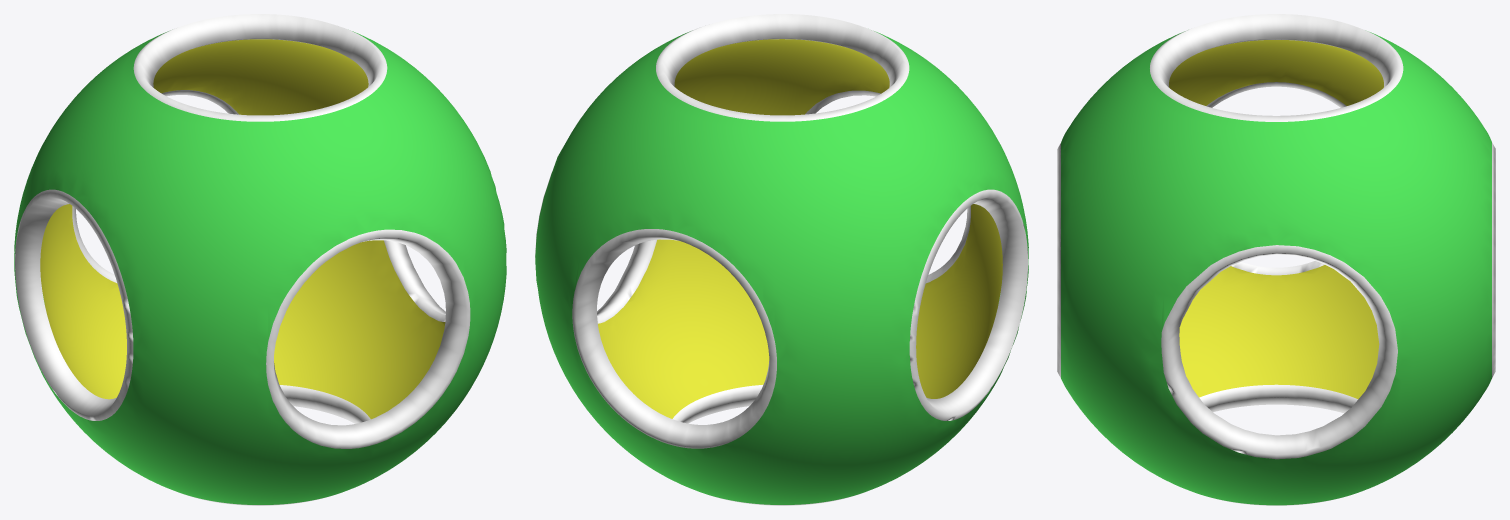
The model's file is globuscassus_old.fbx.
3 views of the same model, side by side, from view 1: azimuth 30°, elevation 25°; view 2: azimuth 150°, elevation 25°; view 3: azimuth 270°, elevation 25° (orthographic).
Visible parts, largest first — view 1: Sphere; view 2: Sphere; view 3: Sphere.
Part boxes in pixels (x1=…): Sphere: x1=14, y1=14, x2=506, y2=505; Sphere: x1=535, y1=14, x2=1028, y2=505; Sphere: x1=1057, y1=14, x2=1495, y2=505.
Size of the model in its own units: 178 by 175 by 178.
